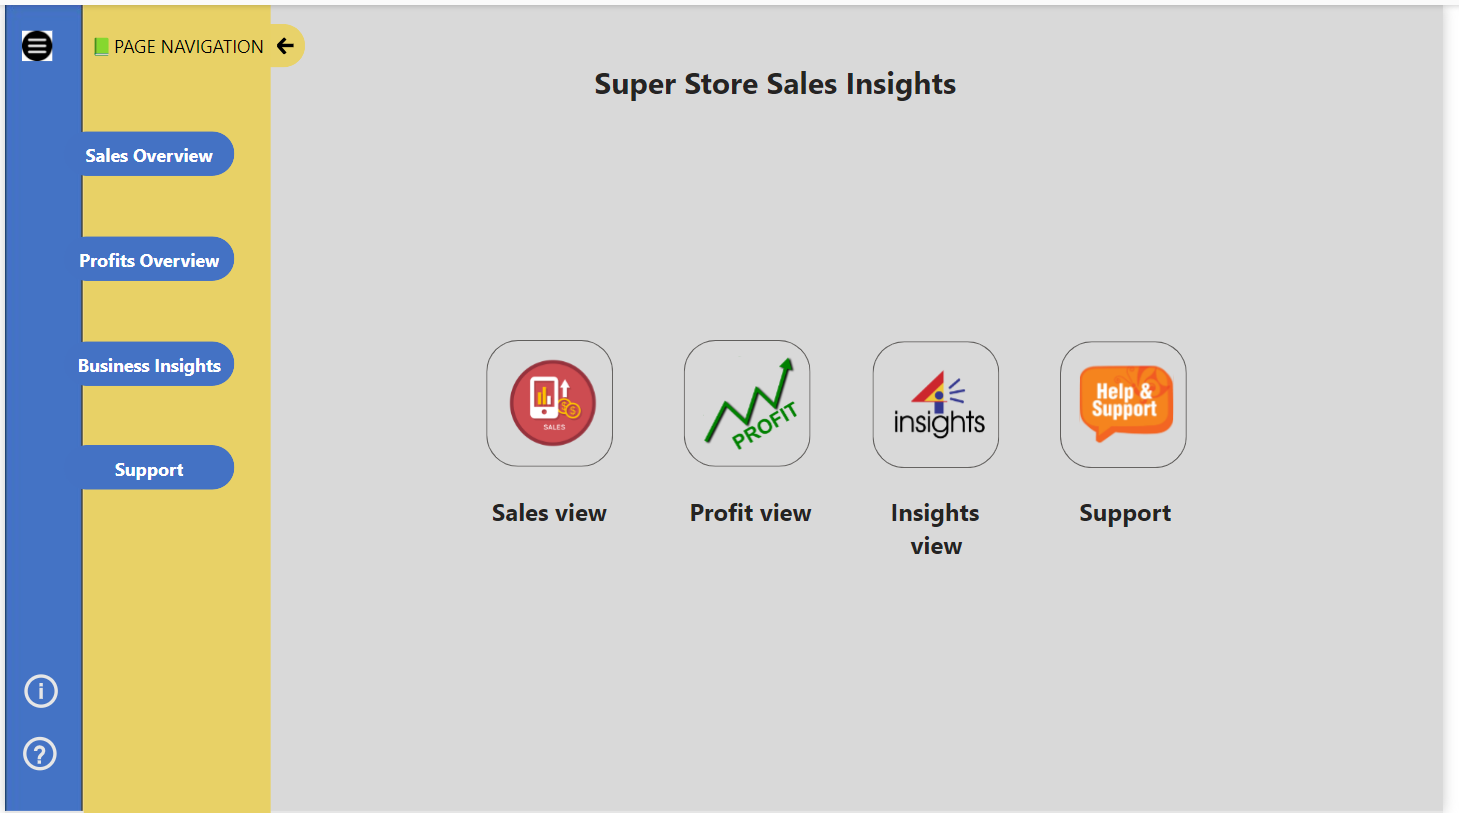

What the dashboard file says about the page in this screenshot:
{"tool":"powerbi","page":{"name":"Home","canvas":[1280,720],"ordinal":0},"visuals":[{"type":"group","id":"g1","title":"Menu objects","box":[51.9,0,215.3,720.2],"z":0},{"type":"group","id":"g2","title":"Menu","box":[10.9,19.3,41,667.2],"z":1000},{"type":"textbox","box":[520.1,46,430.8,65.5],"z":2000},{"type":"actionButton","title":"Close Button","box":[226.8,16.7,40.3,39],"z":3000,"group":"g1"},{"type":"actionButton","box":[428.1,298.4,112.9,112.9],"z":3000},{"type":"actionButton","box":[603.7,298.4,112.9,112.9],"z":4000},{"type":"shape","title":"Flyout shape","box":[70,0,166.5,720.2],"z":5000,"group":"g1"},{"type":"actionButton","box":[772.5,299.8,112.9,112.9],"z":5000},{"type":"actionButton","box":[939.8,299.8,112.9,112.9],"z":6000},{"type":"actionButton","title":"Support","box":[51.9,392.1,152,39.8],"z":7000,"group":"g1"},{"type":"textbox","box":[428.1,432.2,112.9,86.4],"z":7000},{"type":"actionButton","title":"Business","box":[51.9,299.2,152,39.8],"z":7125,"group":"g1"},{"type":"actionButton","title":"Profits","box":[51.9,206.3,152,39.8],"z":7250,"group":"g1"},{"type":"actionButton","title":"Sales","box":[51.9,112.2,152,39.8],"z":7500,"group":"g1"},{"type":"actionButton","title":"Question","box":[10.9,646.6,39.8,39.8],"z":7500,"group":"g2"},{"type":"actionButton","title":"Info","box":[12.1,591.2,39.8,39.8],"z":7750,"group":"g2"},{"type":"actionButton","title":"Menu","box":[10.9,19.3,35,35],"z":8000,"group":"g2"},{"type":"textbox","box":[603.7,432.2,132.5,86.4],"z":8000},{"type":"textbox","box":[783.6,432.2,115.7,86.4],"z":9000},{"type":"textbox","box":[950.9,432.2,101.8,86.4],"z":10000}]}

Visuals, with their boxes in screenshot pixels (x1, y1, x2, y2), scaled from the page's 1280x720 canvas onto the 1459x813 screenshot:
"Menu objects" group: 59/0/305/812
"Menu" group: 12/22/59/775
textbox: 593/52/1084/126
"Close Button" actionButton: 259/19/304/63
actionButton: 488/337/617/464
actionButton: 688/337/817/464
"Flyout shape" shape: 80/0/270/812
actionButton: 881/339/1009/466
actionButton: 1071/339/1200/466
"Support" actionButton: 59/443/232/488
textbox: 488/488/617/586
"Business" actionButton: 59/338/232/383
"Profits" actionButton: 59/233/232/278
"Sales" actionButton: 59/127/232/172
"Question" actionButton: 12/730/58/775
"Info" actionButton: 14/668/59/713
"Menu" actionButton: 12/22/52/61
textbox: 688/488/839/586
textbox: 893/488/1025/586
textbox: 1084/488/1200/586
